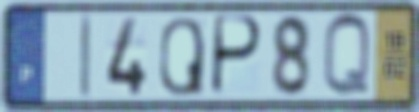4: (104, 15, 149, 99)
8: (270, 12, 313, 99)
I: (78, 11, 94, 101)
P: (208, 12, 265, 100)
Q: (321, 10, 373, 101), (157, 14, 207, 98)
